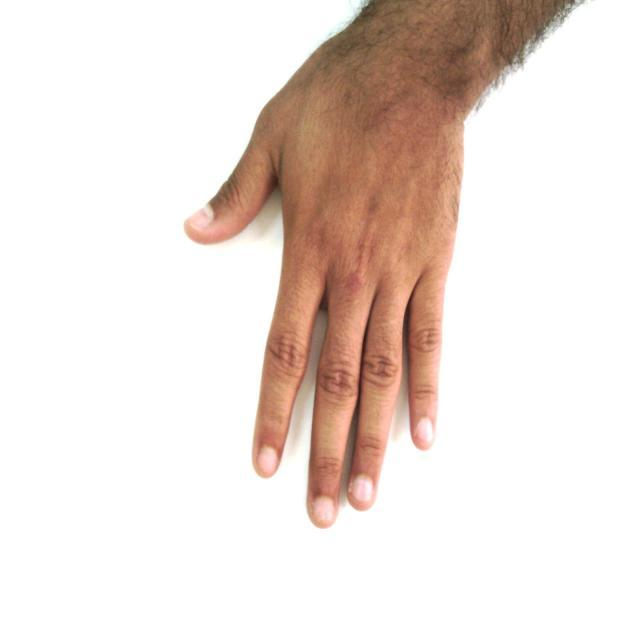Fingernail: (186, 206, 213, 230), (351, 477, 372, 503), (314, 497, 334, 523), (259, 448, 276, 475), (416, 419, 433, 444)
